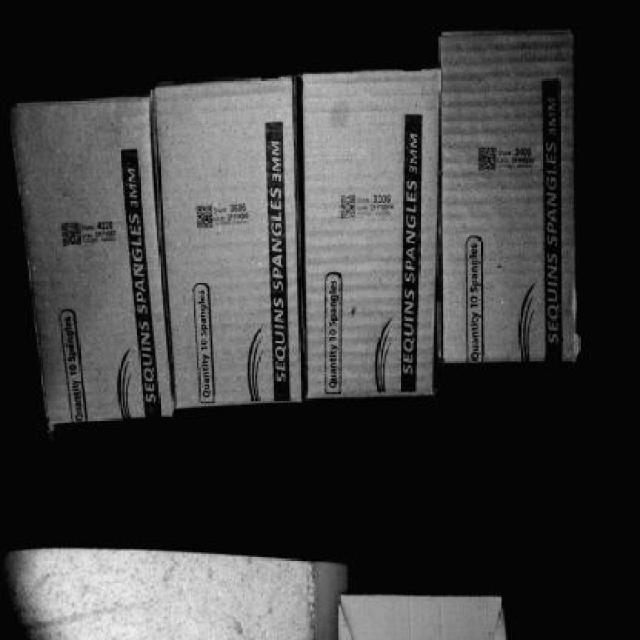cardboxes: (16, 108, 170, 418), (156, 86, 301, 405), (440, 36, 580, 364), (298, 77, 434, 395)
